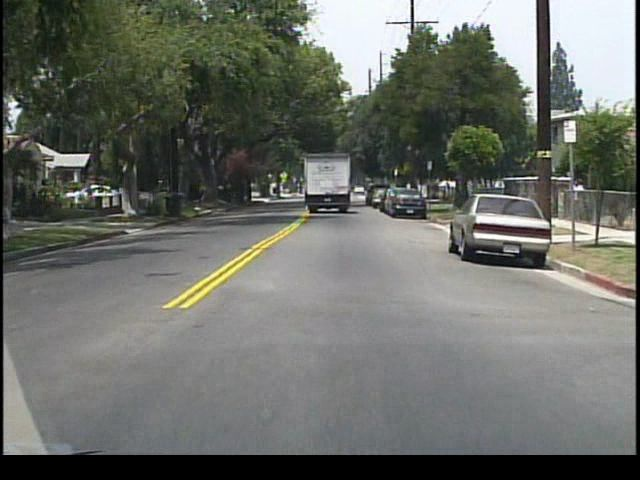person: (569, 176, 586, 221)
